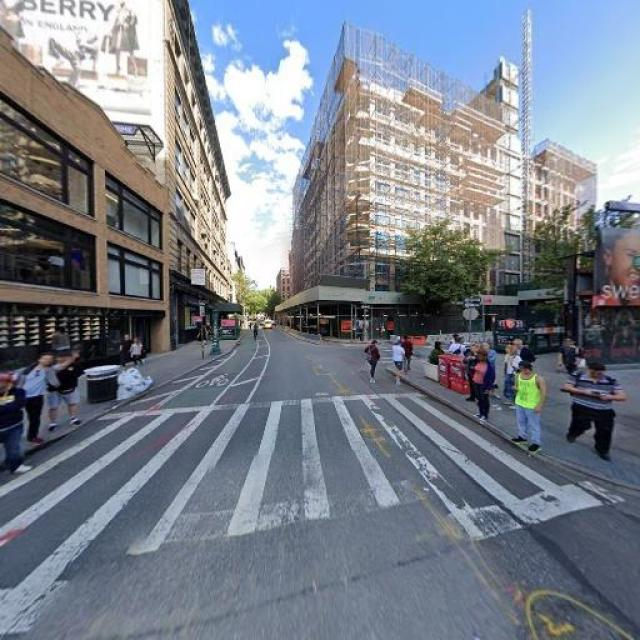Building: (1, 8, 169, 388), (304, 70, 498, 340), (173, 1, 225, 345)
